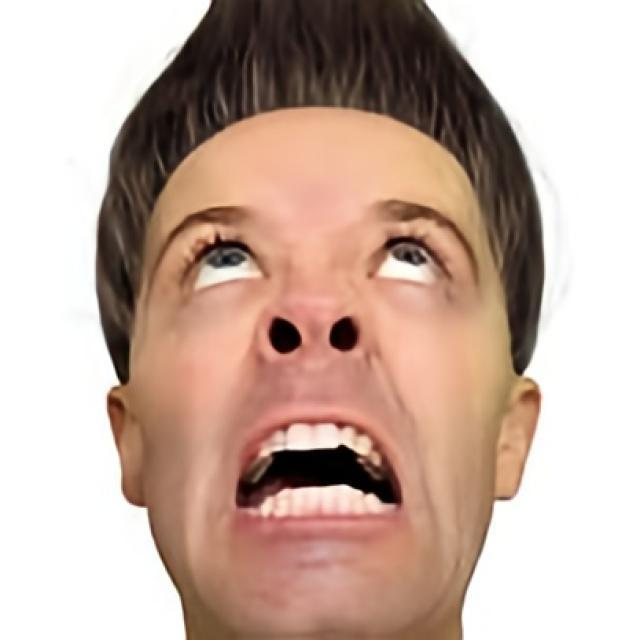fear: (128, 105, 508, 638)
